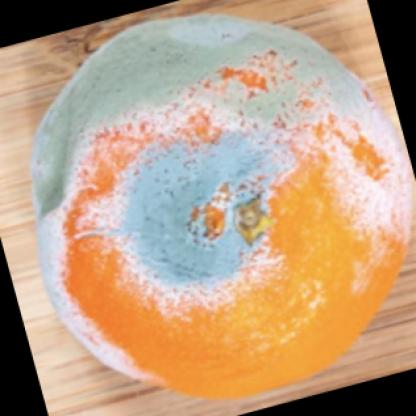rotten: (35, 15, 416, 402)
